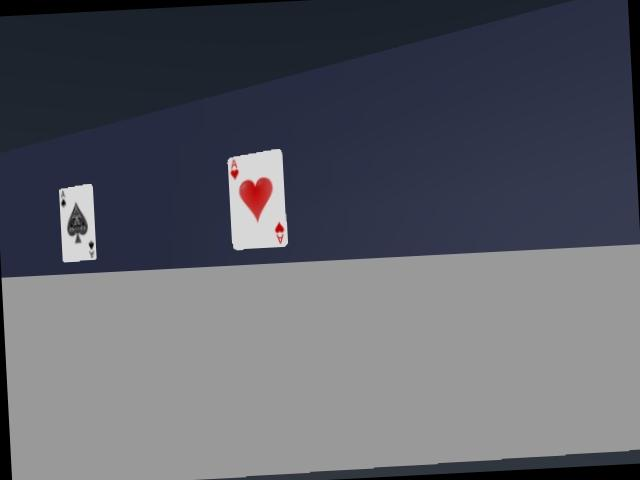heart: (228, 149, 287, 249)
spade: (59, 184, 96, 261)
